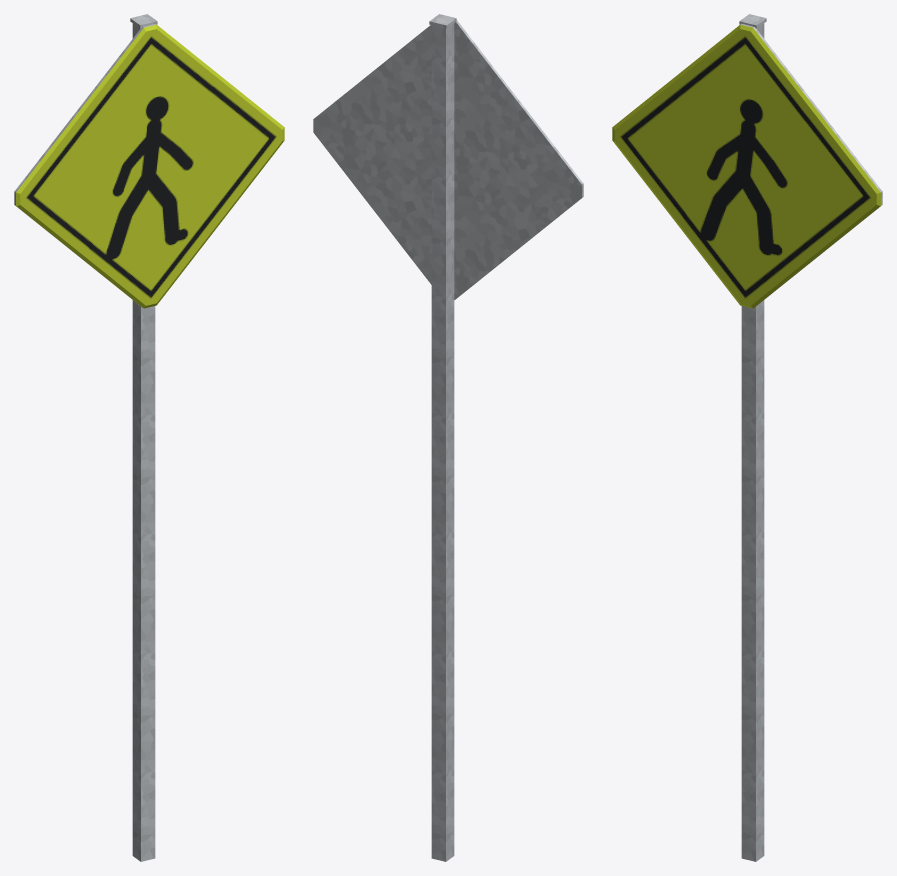
File: pedestrian_crossing_ahead.gltf
3 renders of one model, left to right at view 1: azimuth 30°, elevation 25°; view 2: azimuth 150°, elevation 25°; view 3: azimuth 330°, elevation 25°, orthographic.
Parts seen in each view (by area): view 1: pedestrian_crossing_ahead; view 2: pedestrian_crossing_ahead; view 3: pedestrian_crossing_ahead.
Part boxes in pixels (x1,y1,x2,y2): pedestrian_crossing_ahead: (14, 14, 284, 861); pedestrian_crossing_ahead: (313, 14, 583, 861); pedestrian_crossing_ahead: (612, 14, 882, 861).
Size of the model in its own units: 1.18 by 3.52 by 0.0943.
Materials: 2 (2 with a texture image).
